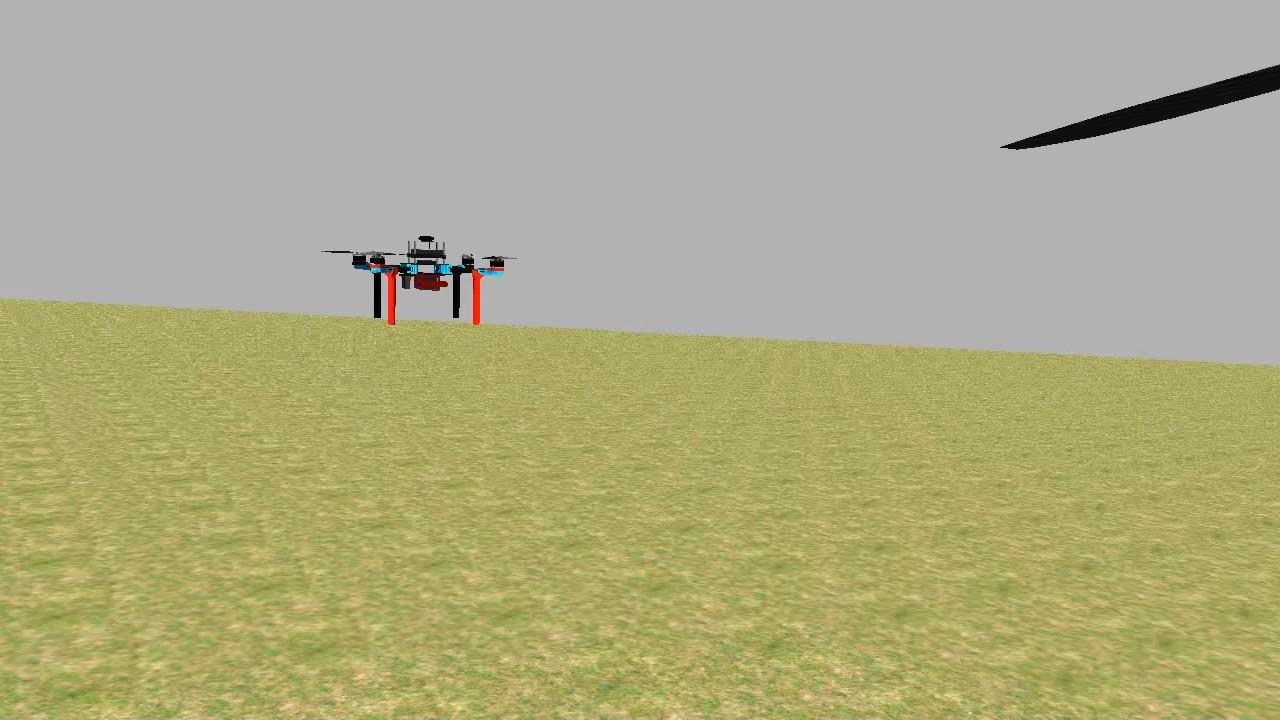UAV: (346, 228, 510, 332)
